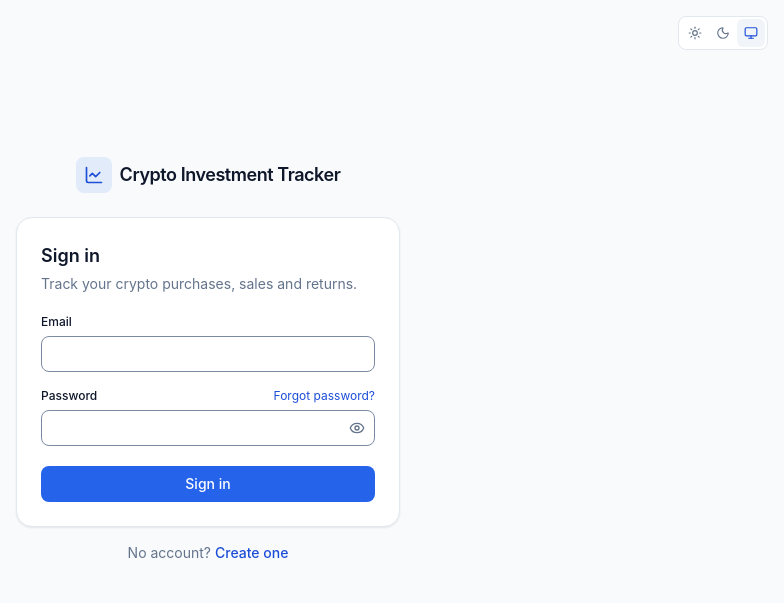
it: login › shows a friendly error on bad credentials
The width and height of the screenshot is (784, 603).
Type "alice@example.com" into the field labelled "Email". click: (208, 354)
box: [41, 336, 375, 372]
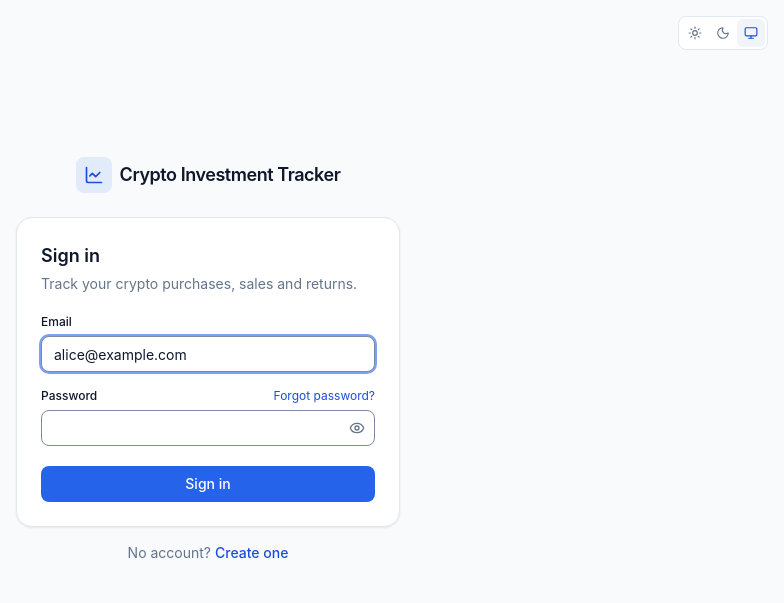
Type "wrong" into the password field labelled "Password". click: (208, 428)
box: [41, 410, 375, 446]
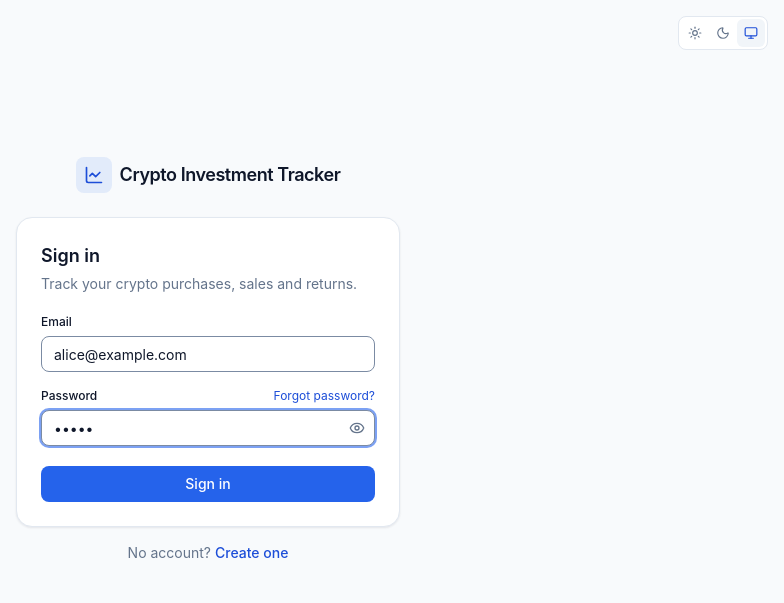
Click the button "Sign in". click: (208, 484)
box: [41, 466, 375, 502]
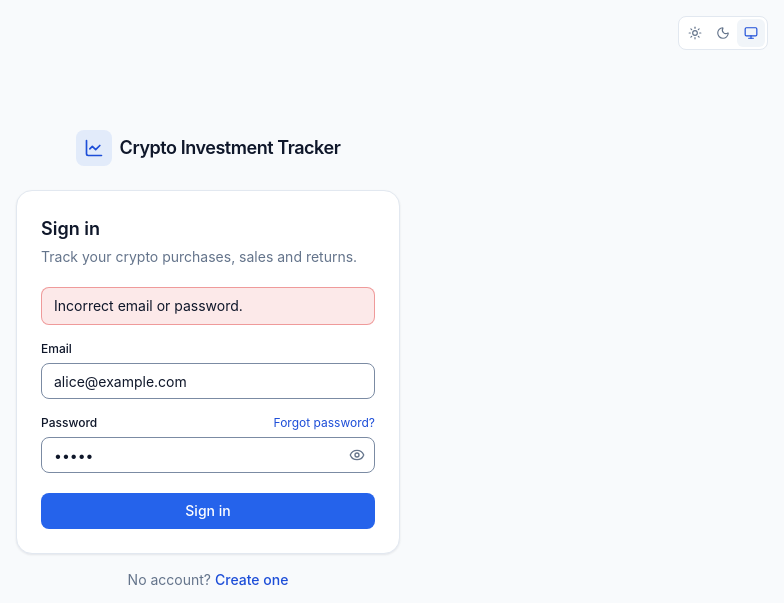
Now the message reads "Incorrect email or password.", box [54, 297, 243, 314]
